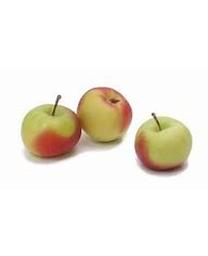apple: (21, 94, 81, 157), (133, 113, 192, 171), (76, 86, 131, 143)
